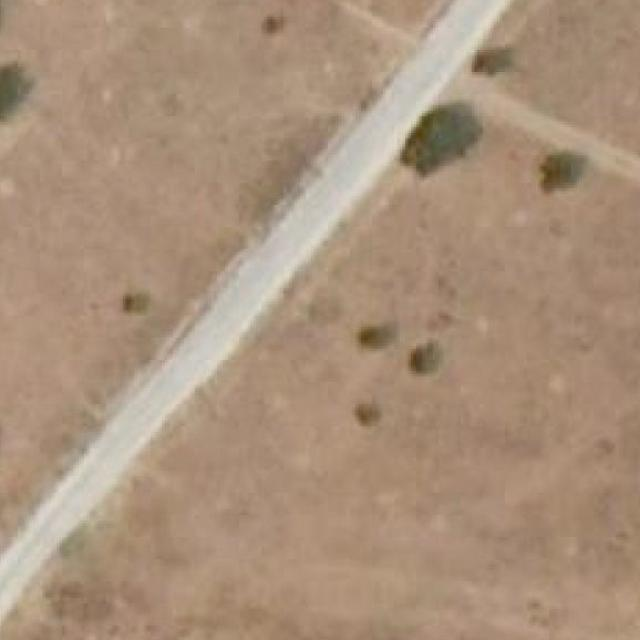Tree: (402, 97, 488, 175), (536, 150, 591, 192), (469, 39, 514, 81), (255, 7, 298, 44), (120, 287, 157, 320), (0, 63, 20, 122), (414, 340, 442, 382), (346, 402, 388, 430), (358, 324, 398, 346)
